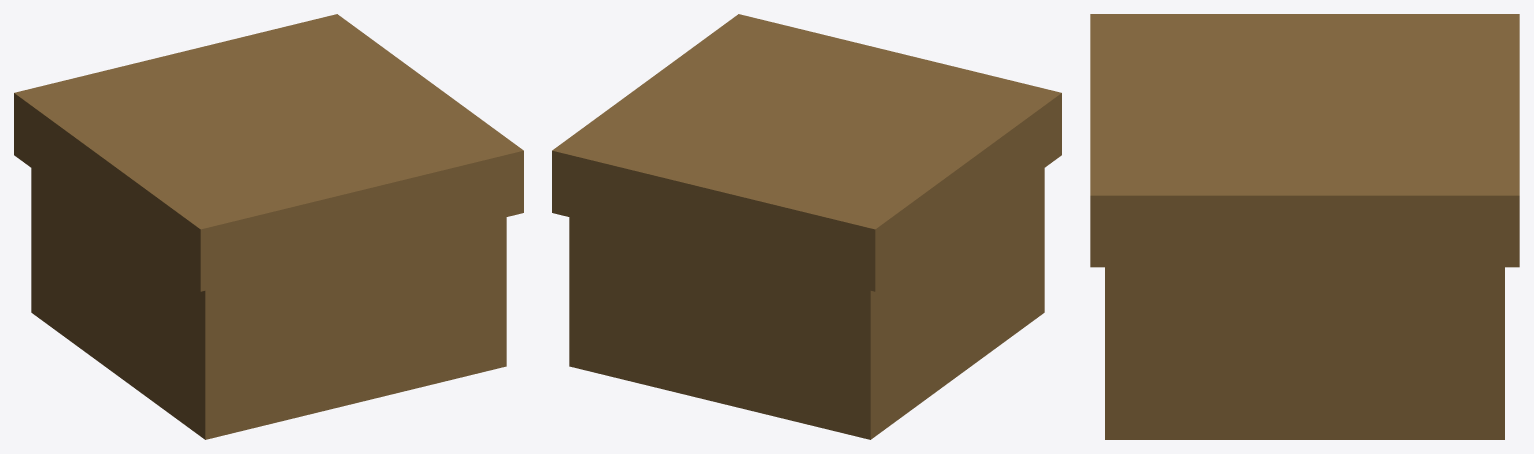
The picture shows the model from 3 angles, left to right: view 1: azimuth 30°, elevation 25°; view 2: azimuth 150°, elevation 25°; view 3: azimuth 270°, elevation 25°; orthographic projection. The views are drawn at different scales.
Visible parts, largest first — view 1: Lid, Box; view 2: Lid, Box; view 3: Lid, Box.
Boxes of the visible parts, left/top/right/bottom form: Lid: left=14, top=14, right=523, bottom=291; Box: left=31, top=168, right=506, bottom=439; Lid: left=552, top=14, right=1061, bottom=291; Box: left=569, top=168, right=1044, bottom=439; Lid: left=1090, top=14, right=1519, bottom=267; Box: left=1105, top=267, right=1504, bottom=439.
Size of the model in its own units: 215 by 138 by 215.
